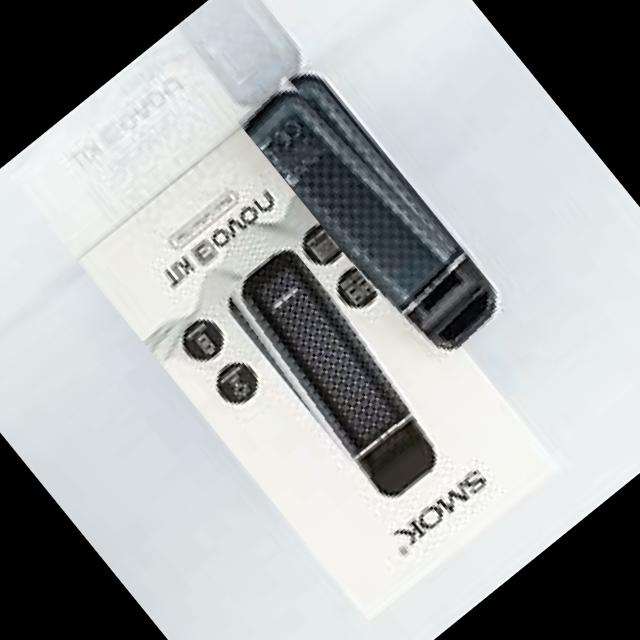Hazard: (233, 59, 507, 366), (211, 242, 459, 516)
